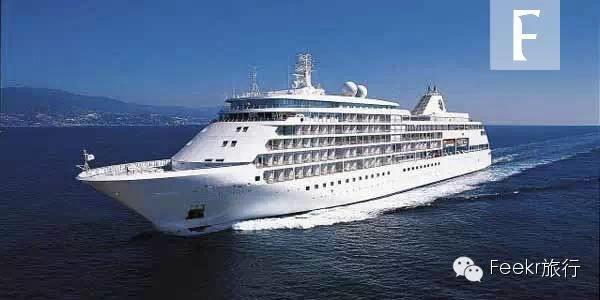youlun: (73, 48, 494, 238)
